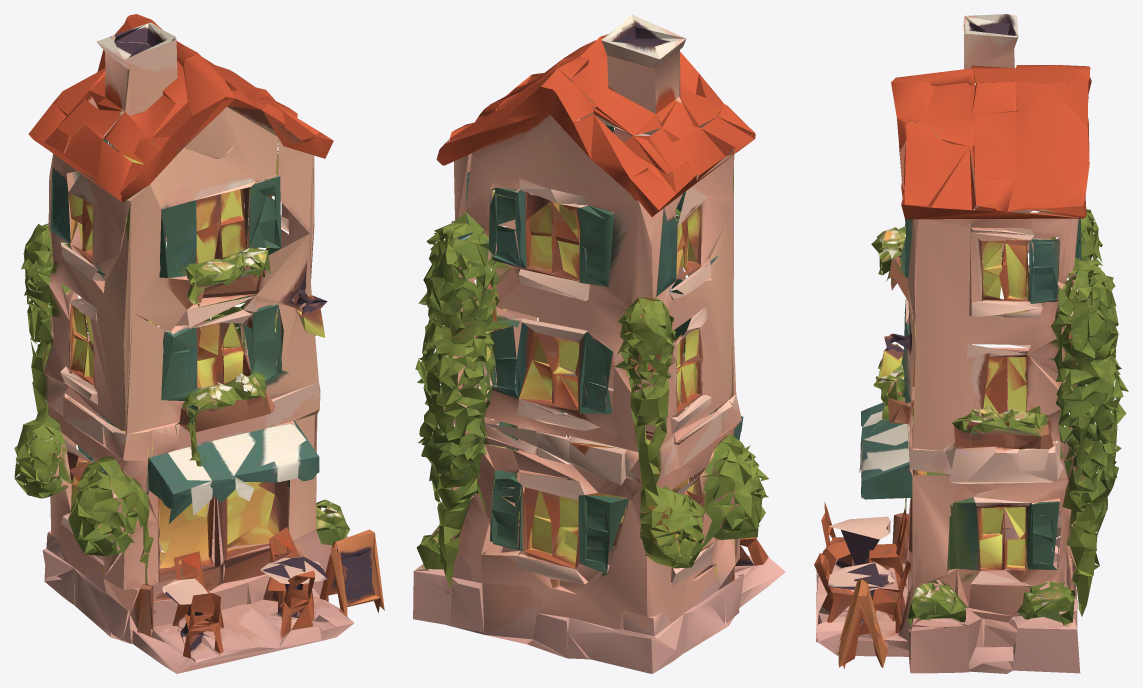
Rendered from m11_04_cafe.glb.
The picture shows the model from 3 angles, left to right: view 1: azimuth 30°, elevation 25°; view 2: azimuth 150°, elevation 25°; view 3: azimuth 270°, elevation 25°; orthographic projection. The views are drawn at different scales.
Parts seen in each view (by area): view 1: cafe; view 2: cafe; view 3: cafe.
Boxes of the visible parts, bbox=[...] form: cafe: bbox=[14, 14, 384, 673]; cafe: bbox=[413, 14, 785, 673]; cafe: bbox=[814, 14, 1128, 673].
Bounding box in the file's own units: 7.95 × 16.24 × 8.05.
Materials: 2 (2 with a texture image).
